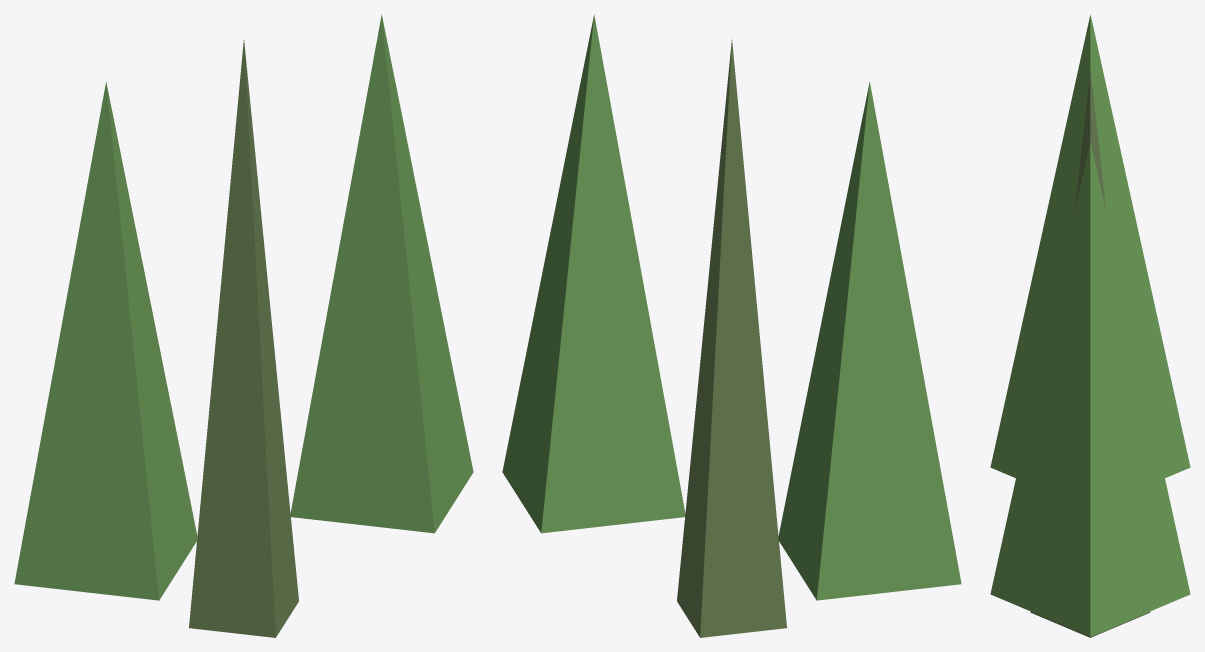
The model's file is prop_crop_2.glb.
The picture shows the model from 3 angles, left to right: view 1: azimuth 30°, elevation 25°; view 2: azimuth 150°, elevation 25°; view 3: azimuth 270°, elevation 25°; orthographic projection. The views are drawn at different scales.
Parts seen in each view (by area): view 1: prop_crop_2; view 2: prop_crop_2; view 3: prop_crop_2.
Boxes of the visible parts, x1,y1,x2,y2 form: prop_crop_2: [14, 14, 473, 637]; prop_crop_2: [502, 14, 961, 637]; prop_crop_2: [990, 14, 1190, 637].
Size of the model in its own units: 0.5 by 0.6 by 0.2.
1 material, 1 textured.
